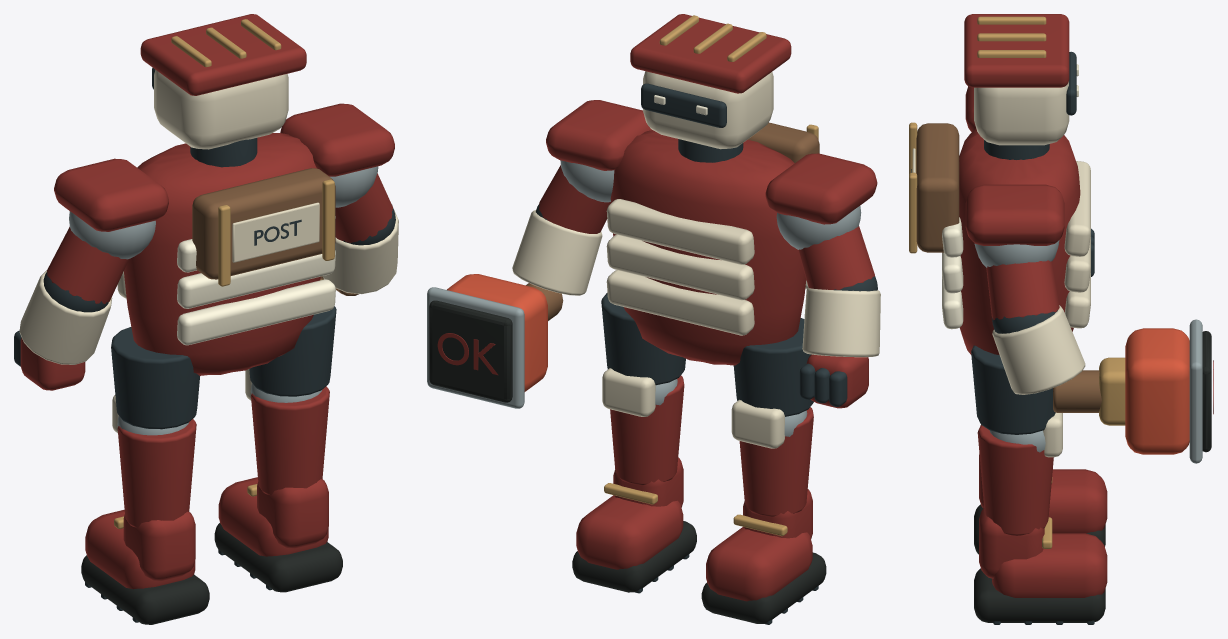
3 renders of one model, left to right at view 1: azimuth 30°, elevation 25°; view 2: azimuth 150°, elevation 25°; view 3: azimuth 270°, elevation 25°, orthographic. The views are drawn at different scales.
Visible parts, largest first — view 1: armored_postroom_body, helmet_cap, stamp_head, dispatch_back_case, upper_leg_001, tapered_shin_001, tapered_shin, pauldron_001, pauldron, postal_back_lamella, layered_forearm_001, upper_leg (+19 smaller); view 2: armored_postroom_body, helmet_cap, rubber_striking_plate, foot_r_vamp, foot_l_vamp, pauldron_001, stamp_head, tapered_shin_001, tapered_shin, layered_forearm_001, layered_paper_cuirass_002, layered_paper_cuirass (+25 smaller); view 3: armored_postroom_body, stamp_housing, helmet_cap, tapered_shin, pauldron, foot_r_vamp, stamp_head, dispatch_back_case, layered_forearm, upper_leg, foot_r_sole, upper_arm (+22 smaller).
Part boxes in pixels (bbox=[...]): armored_postroom_body: bbox=[124, 133, 320, 375]; helmet_cap: bbox=[140, 14, 306, 95]; stamp_head: bbox=[154, 70, 288, 149]; dispatch_back_case: bbox=[192, 168, 335, 279]; upper_leg_001: bbox=[111, 327, 199, 429]; tapered_shin_001: bbox=[117, 419, 196, 527]; tapered_shin: bbox=[251, 386, 329, 494]; pauldron_001: bbox=[54, 158, 168, 231]; pauldron: bbox=[280, 103, 394, 176]; postal_back_lamella: bbox=[177, 279, 335, 345]; layered_forearm_001: bbox=[19, 270, 112, 364]; upper_leg: bbox=[249, 306, 336, 396]; armored_postroom_body: bbox=[610, 130, 806, 365]; helmet_cap: bbox=[630, 14, 791, 93]; rubber_striking_plate: bbox=[429, 300, 512, 402]; foot_r_vamp: bbox=[576, 495, 683, 569]; foot_l_vamp: bbox=[706, 527, 812, 601]; pauldron_001: bbox=[765, 153, 877, 224]; stamp_head: bbox=[643, 71, 773, 149]; tapered_shin_001: bbox=[739, 407, 813, 516]; tapered_shin: bbox=[610, 375, 684, 485]; layered_forearm_001: bbox=[802, 287, 880, 357]; layered_paper_cuirass_002: bbox=[606, 199, 754, 264]; layered_paper_cuirass: bbox=[606, 270, 754, 335]; armored_postroom_body: bbox=[959, 128, 1080, 355]; stamp_housing: bbox=[1125, 328, 1189, 454]; helmet_cap: bbox=[964, 14, 1069, 87]; tapered_shin: bbox=[977, 425, 1053, 535]; pauldron: bbox=[965, 184, 1064, 245]; foot_r_vamp: bbox=[992, 533, 1107, 597]; stamp_head: bbox=[974, 81, 1069, 145]; dispatch_back_case: bbox=[916, 123, 959, 252]; layered_forearm: bbox=[992, 305, 1085, 394]; upper_leg: bbox=[971, 345, 1055, 434]; foot_r_sole: bbox=[974, 568, 1105, 622]; upper_arm: bbox=[986, 260, 1059, 319].
Bounding box in the file's own units: 1.33 × 1.83 × 0.9265.
